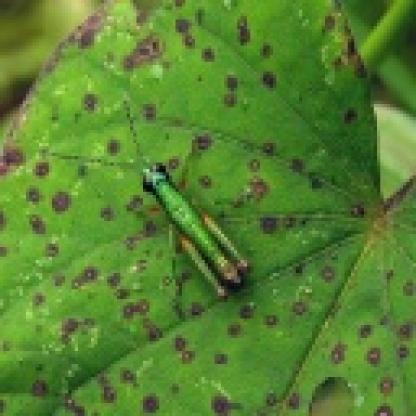grasshopper: (91, 122, 253, 314)
